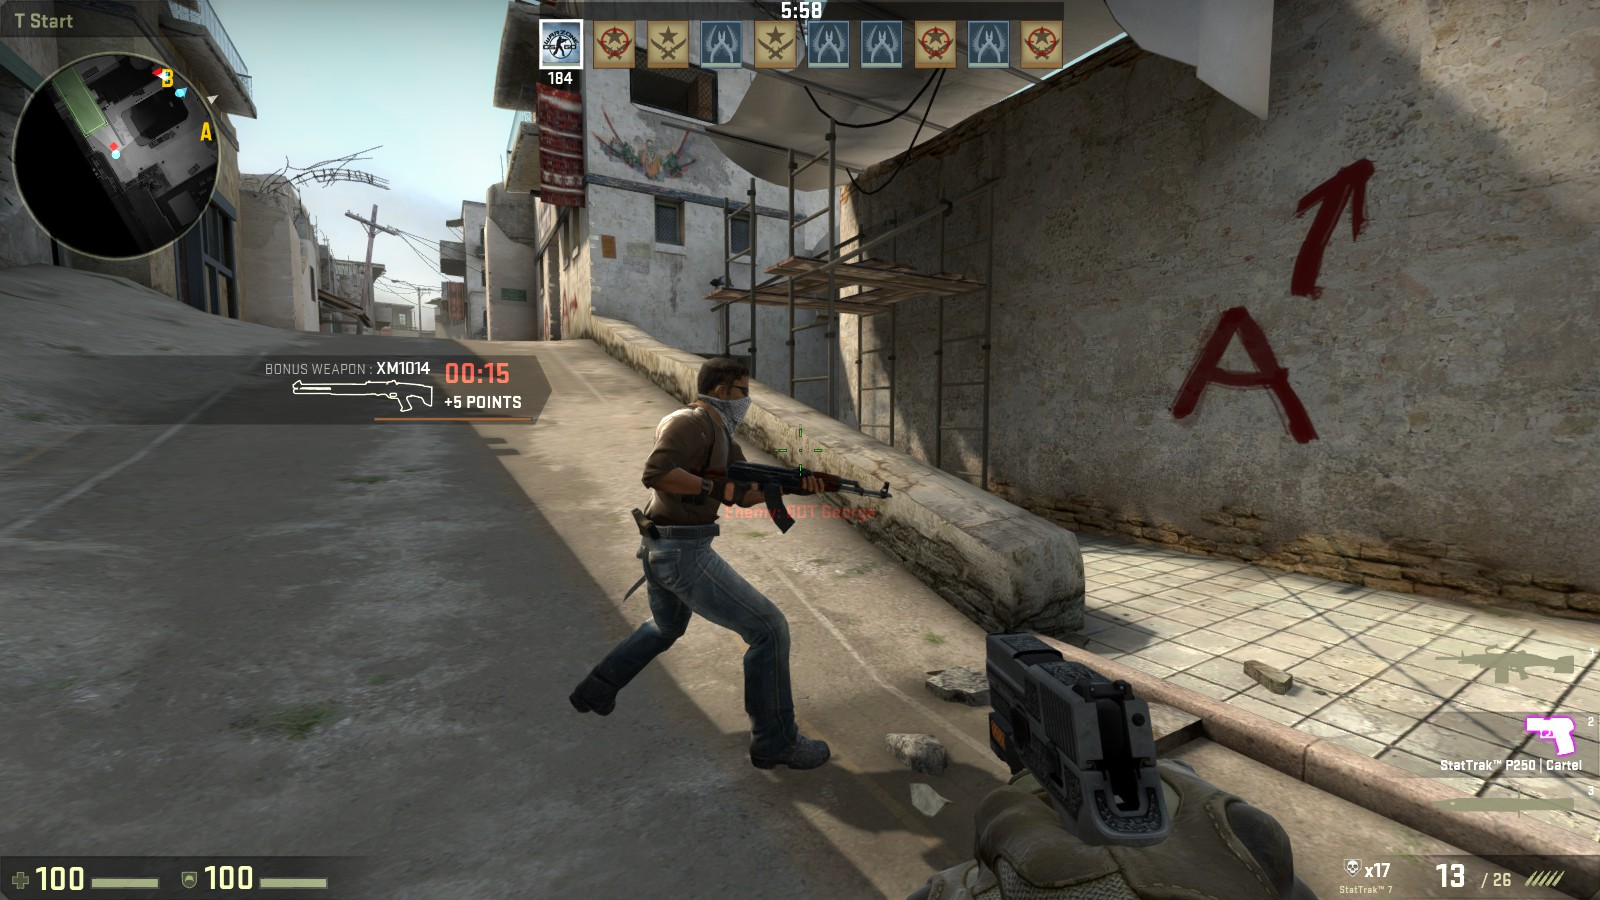t: (625, 348, 795, 778)
th: (673, 349, 769, 438)
